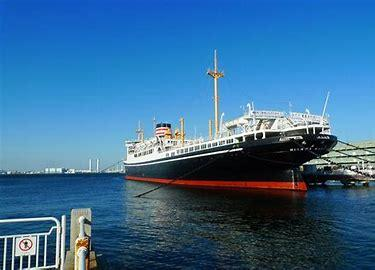Ship: (103, 45, 340, 201)
